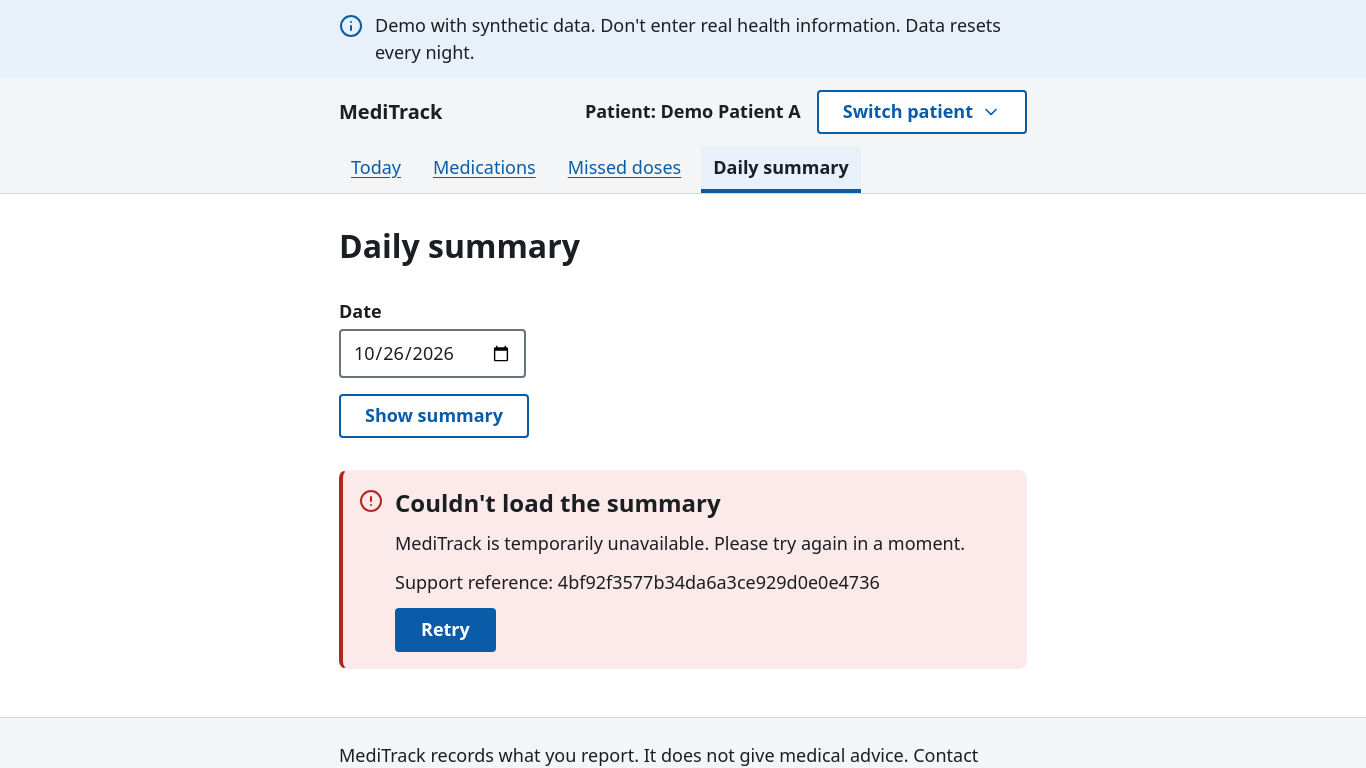
it: Daily summary page › explains a failed load with the support reference, and Retry loads the summary
Expected: the heading "Couldn't load the summary" is shown, [395,487,721,518]
What coordinates should you click on to do the following:
click the button "Retry"
I would click on:
 (445, 630)
Its box is [395,608,496,652].
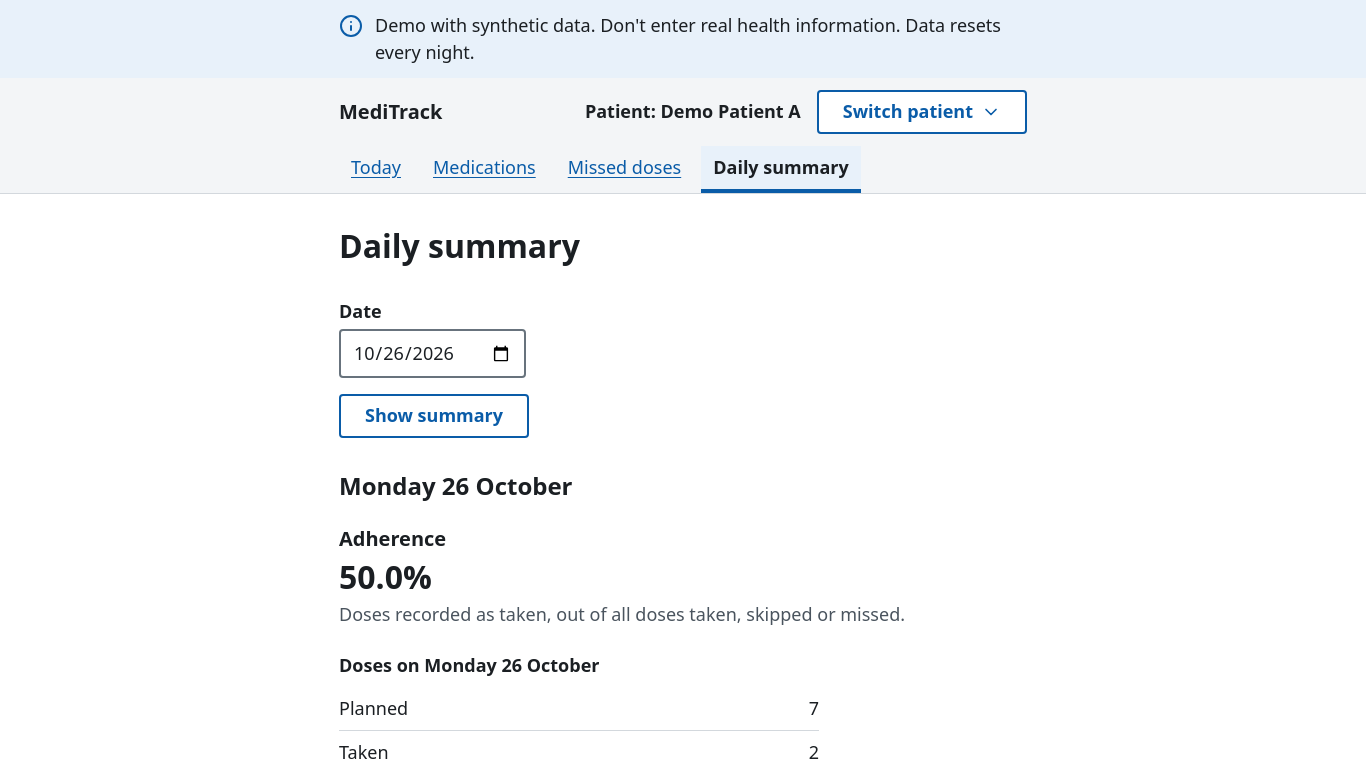
Now the text "50.0%" is shown, box [339,555,432,598]
